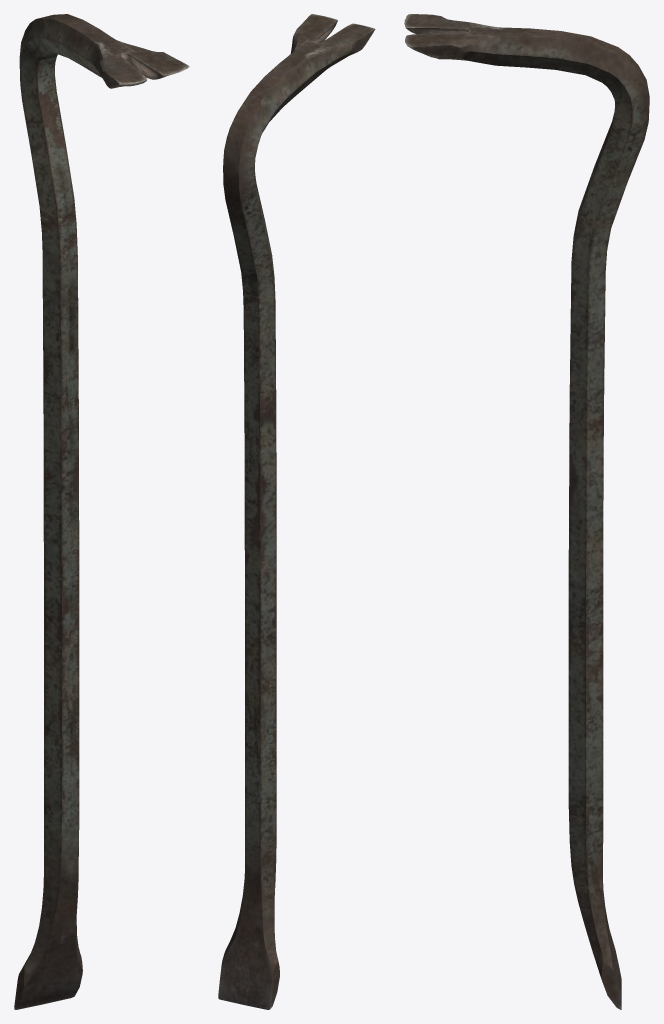
File: crowbar.glb
3 views of the same model, side by side, from view 1: azimuth 30°, elevation 25°; view 2: azimuth 150°, elevation 25°; view 3: azimuth 270°, elevation 25° (orthographic). The views are drawn at different scales.
Parts seen in each view (by area): view 1: crowbar; view 2: crowbar; view 3: crowbar.
Boxes of the visible parts, box(x1,y1,x2,y2) form: crowbar: box(14, 14, 189, 1009); crowbar: box(218, 14, 375, 1009); crowbar: box(404, 14, 649, 1009).
Bounding box in the file's own units: 0.0437 × 0.6 × 0.1378.
Materials: 1 (1 with a texture image).
